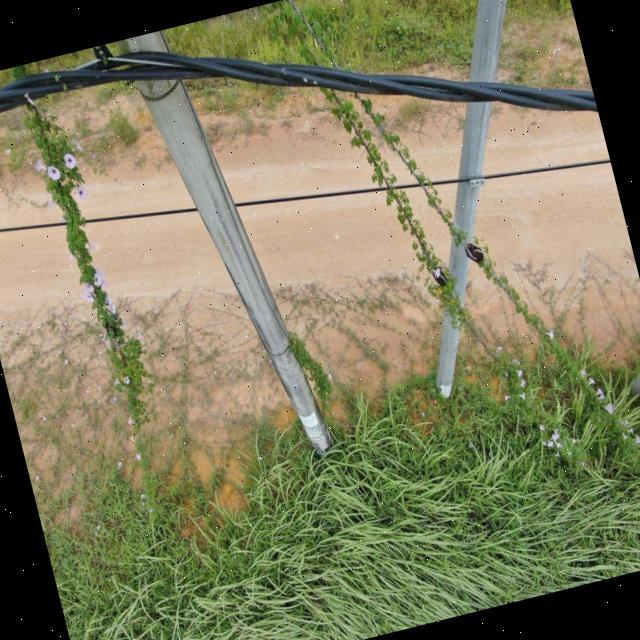critical vegetation: (291, 0, 640, 517), (31, 86, 196, 540), (277, 315, 344, 430)
